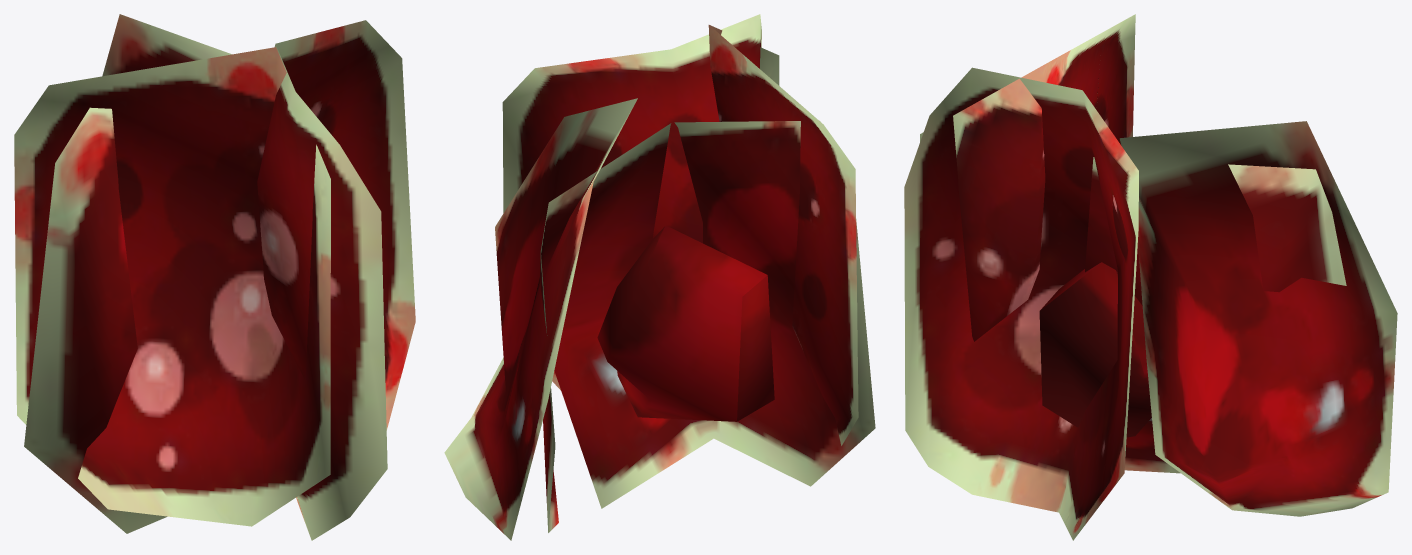
The model's file is Zombie_Broken_Clown_Head02_bfe638ec__Zombie_Broken_Green_0_bb717ba8_c1f257.obj.
3 views of the same model, side by side, from view 1: azimuth 30°, elevation 25°; view 2: azimuth 150°, elevation 25°; view 3: azimuth 270°, elevation 25° (orthographic). The views are drawn at different scales.
Size of the model in its own units: 0.6582 by 0.7328 by 0.7546.
Materials: 1 (1 with a texture image).
